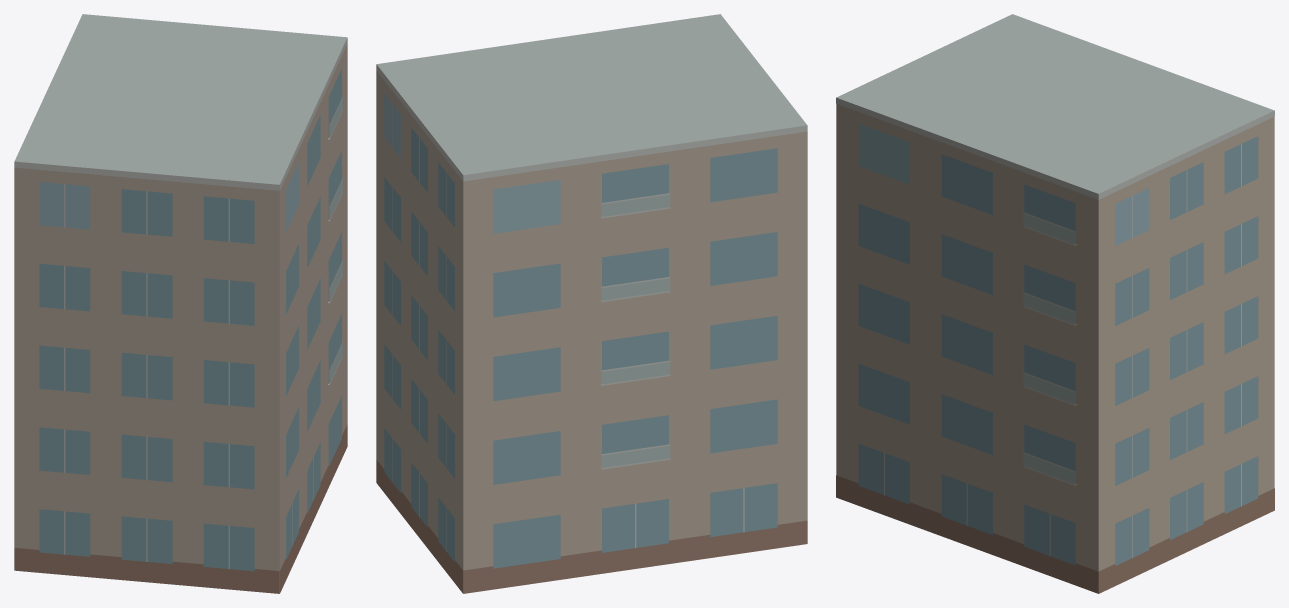
The model's file is survey-upis-32945099.glb.
3 views of the same model, side by side, from view 1: azimuth 30°, elevation 25°; view 2: azimuth 150°, elevation 25°; view 3: azimuth 270°, elevation 25° (orthographic). The views are drawn at different scales.
Visible parts, largest first — view 1: survey-upis-32945099.tmp; view 2: survey-upis-32945099.tmp; view 3: survey-upis-32945099.tmp.
Part boxes in pixels (left/top/right/bottom): survey-upis-32945099.tmp: left=14, top=14, right=347, bottom=593; survey-upis-32945099.tmp: left=376, top=14, right=807, bottom=593; survey-upis-32945099.tmp: left=836, top=14, right=1274, bottom=593.
Bounding box in the file's own units: 15.98 × 16.55 × 16.46.
